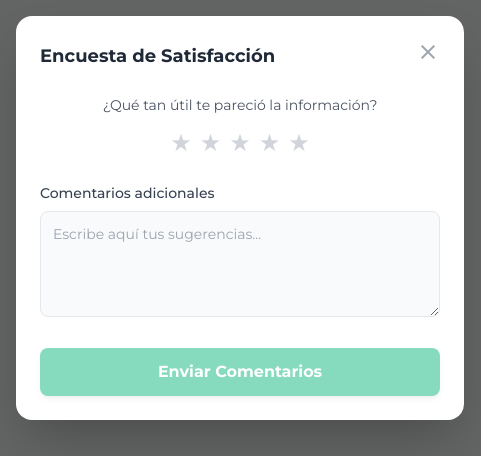
Test: SatisfactionSurveyModal Component › allows rating selection and enables submit button
This screenshot has width=481, height=456.
Expected: the button "Enviar Comentarios" is disabled, x1=40 y1=348 x2=440 y2=396
Click the button named "Calificar con 5 estrellas".
click(299, 143)  # box x1=288 y1=127 x2=310 y2=159
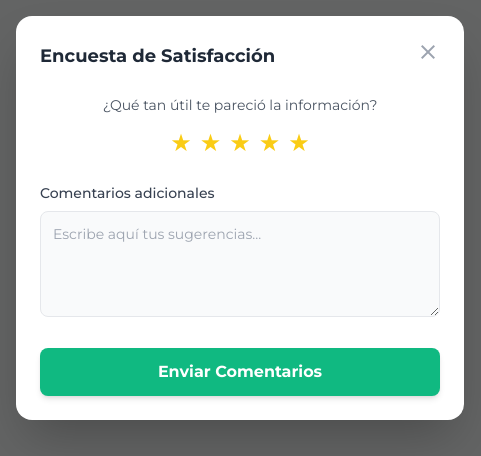
Now the button "Enviar Comentarios" is enabled, box x1=40 y1=348 x2=440 y2=396
